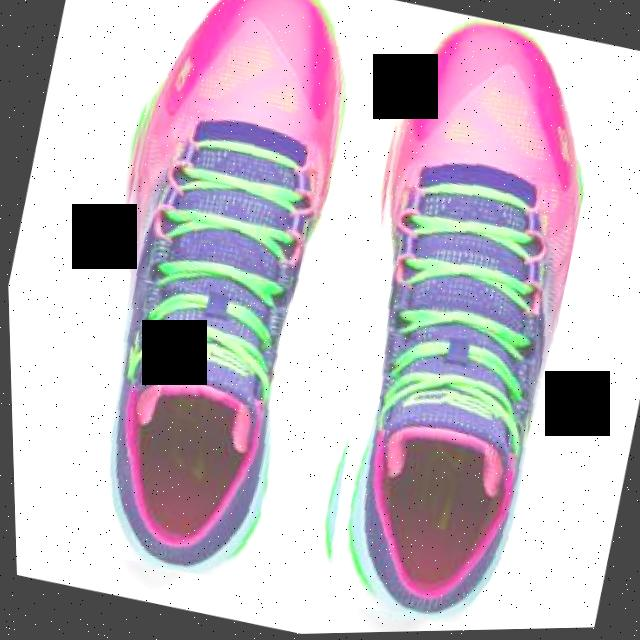shoe: (278, 2, 626, 635), (37, 0, 381, 589)
